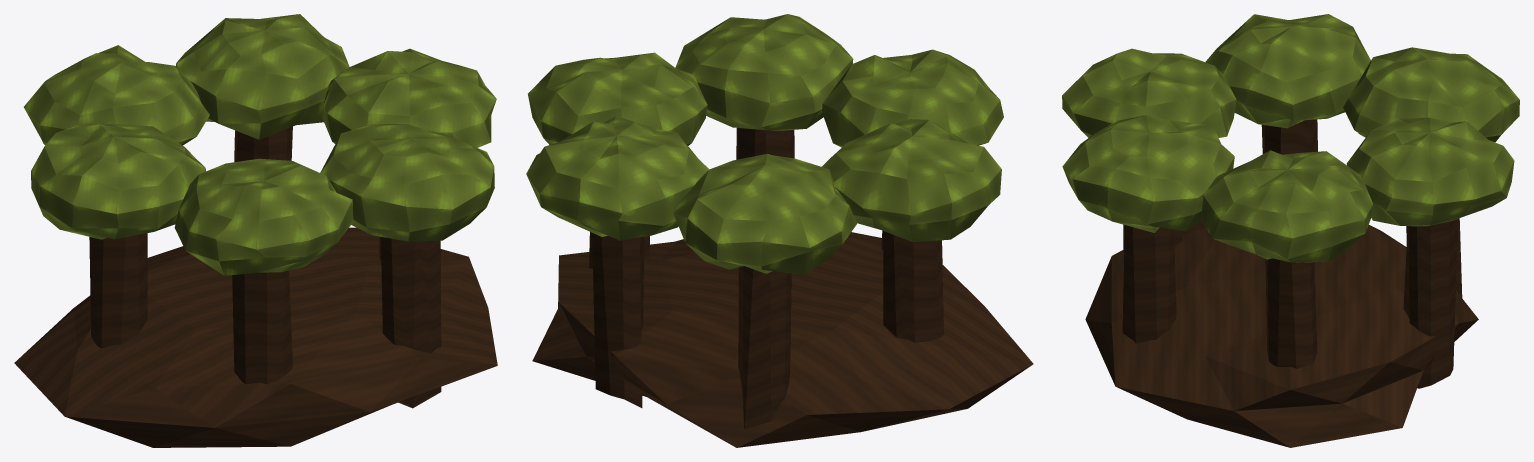
Rendered from underworld-resource-decay-spore.glb.
3 views of the same model, side by side, from view 1: azimuth 30°, elevation 25°; view 2: azimuth 150°, elevation 25°; view 3: azimuth 270°, elevation 25° (orthographic). The views are drawn at different scales.
Parts seen in each view (by area): view 1: spore-cake, cap-4, cap-3, cap-5, cap-1, cap-0, cap-2, stem-5, stem-4, stem-3, stem-1; view 2: spore-cake, cap-2, cap-3, cap-1, cap-5, cap-4, cap-0, stem-2, stem-1, stem-3, stem-5; view 3: spore-cake, cap-0, cap-5, cap-1, cap-3, cap-2, cap-4, stem-1, stem-5, stem-0, stem-3.
Part boxes in pixels (bbox=[...]): spore-cake: bbox=[14, 227, 497, 447]; cap-4: bbox=[174, 158, 353, 275]; cap-3: bbox=[31, 123, 205, 239]; cap-5: bbox=[320, 124, 494, 241]; cap-1: bbox=[176, 14, 349, 139]; cap-0: bbox=[322, 48, 496, 147]; cap-2: bbox=[24, 45, 209, 145]; stem-5: bbox=[381, 237, 441, 408]; stem-4: bbox=[232, 270, 292, 384]; stem-3: bbox=[89, 233, 147, 348]; stem-1: bbox=[234, 126, 292, 162]; spore-cake: bbox=[532, 232, 1033, 447]; cap-2: bbox=[673, 153, 856, 274]; cap-3: bbox=[822, 119, 1001, 242]; cap-1: bbox=[526, 116, 709, 240]; cap-5: bbox=[675, 14, 853, 130]; cap-4: bbox=[822, 49, 1003, 147]; cap-0: bbox=[528, 52, 707, 145]; stem-2: bbox=[738, 266, 791, 429]; stem-1: bbox=[592, 233, 644, 407]; stem-3: bbox=[883, 231, 944, 342]; stem-5: bbox=[736, 128, 794, 159]; spore-cake: bbox=[1085, 219, 1478, 447]; cap-0: bbox=[1201, 150, 1372, 262]; cap-5: bbox=[1062, 115, 1234, 232]; cap-1: bbox=[1346, 117, 1514, 226]; cap-3: bbox=[1205, 14, 1370, 128]; cap-2: bbox=[1343, 47, 1519, 142]; cap-4: bbox=[1062, 48, 1236, 137]; stem-1: bbox=[1403, 219, 1458, 388]; stem-5: bbox=[1122, 225, 1176, 343]; stem-0: bbox=[1265, 258, 1317, 368]; stem-3: bbox=[1261, 119, 1317, 154].
Bounding box in the file's own units: 0.2048 × 0.1254 × 0.1841.
2 materials, 2 textured.
